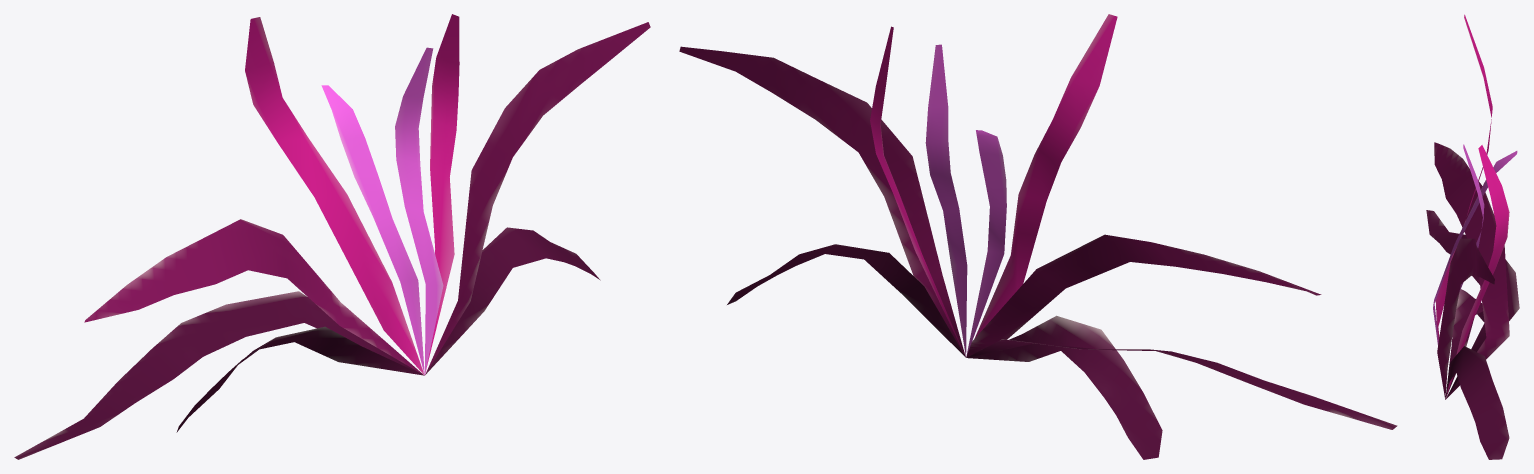
Rendered from plant_pinkfbx.fbx.
3 views of the same model, side by side, from view 1: azimuth 30°, elevation 25°; view 2: azimuth 150°, elevation 25°; view 3: azimuth 270°, elevation 25° (orthographic). The views are drawn at different scales.
Parts seen in each view (by area): view 1: plant_pink; view 2: plant_pink; view 3: plant_pink.
Boxes of the visible parts, bbox=[...] form: plant_pink: bbox=[14, 14, 650, 459]; plant_pink: bbox=[679, 14, 1397, 459]; plant_pink: bbox=[1426, 14, 1519, 459].
Bounding box in the file's own units: 44.01 × 25.76 × 6.39.
